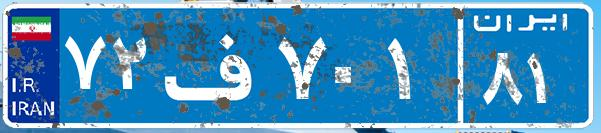0: (330, 28, 385, 110)
1: (385, 28, 445, 110), (525, 38, 570, 115)
2: (110, 28, 158, 105)
7: (273, 28, 330, 110), (57, 26, 110, 107)
8: (475, 38, 525, 113)
ف: (158, 15, 273, 115)
